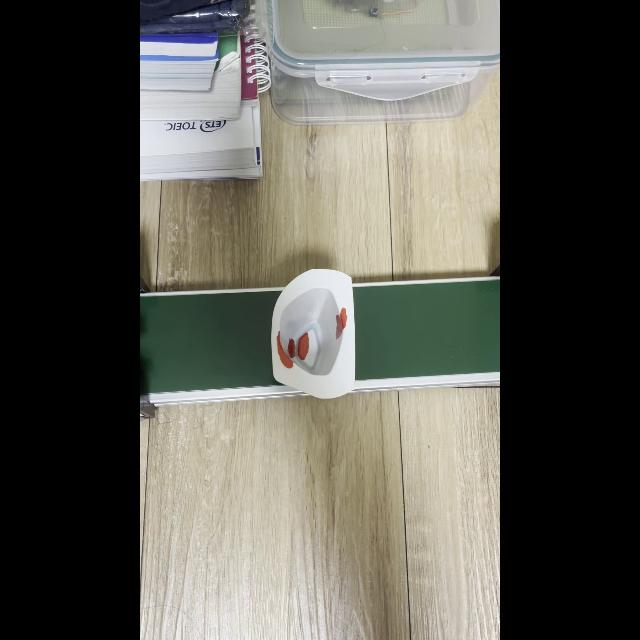dirty: (272, 284, 356, 394)
